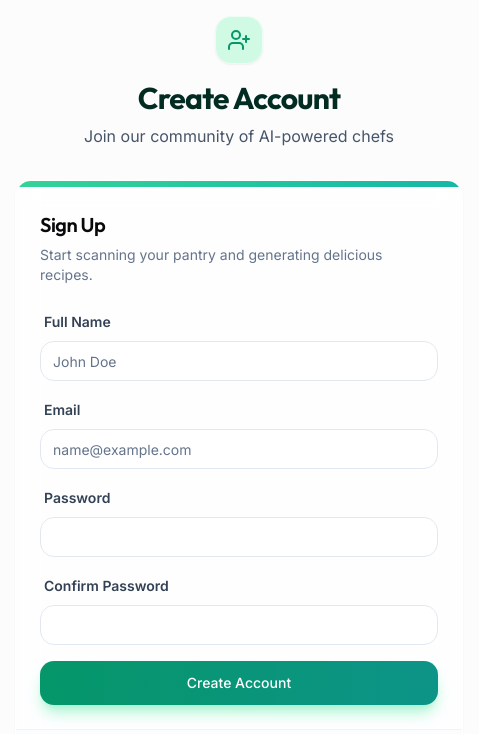
RegisterPage › shows error if passwords don't match
The image size is (479, 734).
In the password field labelled "Password": (239,537) [40,517,438,557], type "password123"
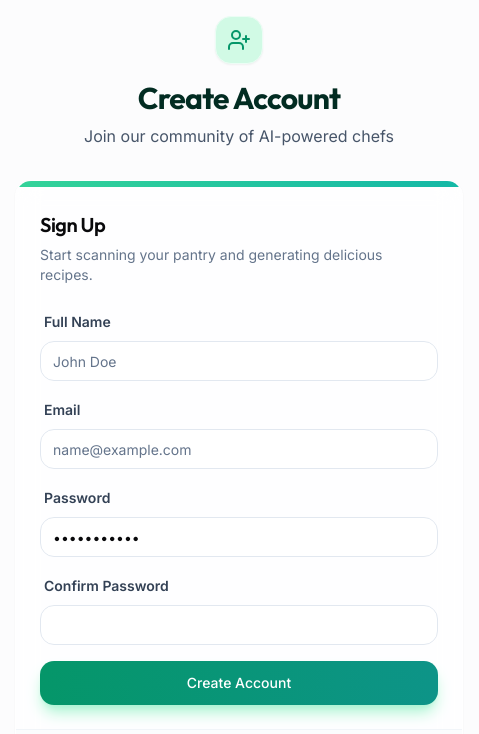
In the password field labelled "Confirm Password": (239,625) [40,605,438,645], type "password456"
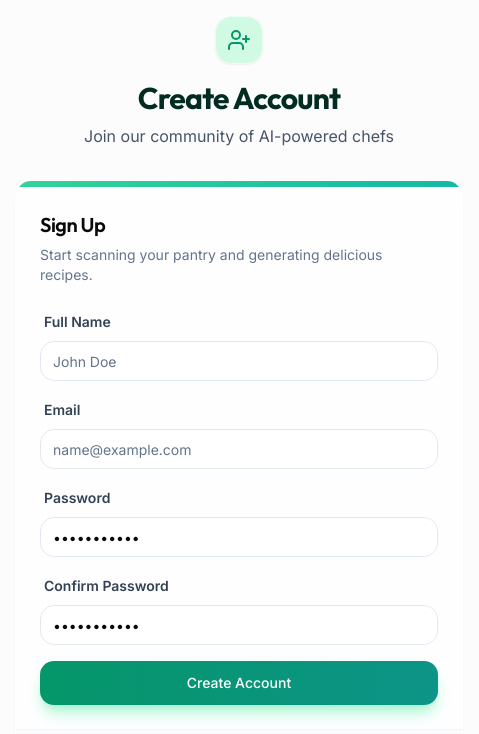
Click the button "Create Account": (239,683) [40,661,438,705]
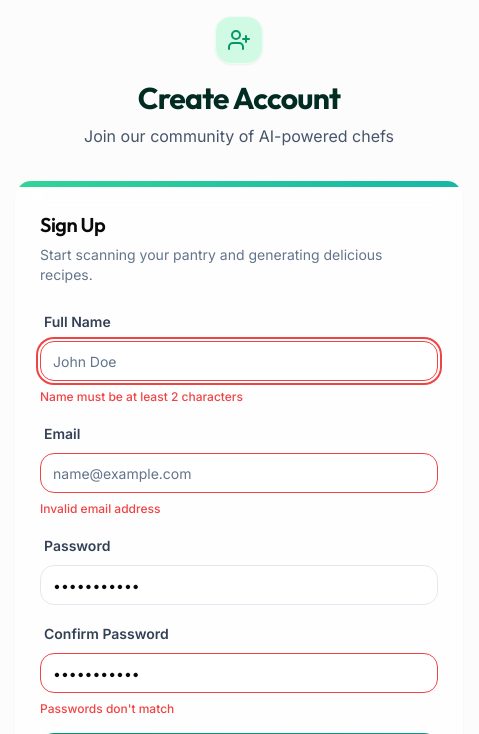
Check: the text "Passwords don't match" is shown, box [40,701,174,716]
